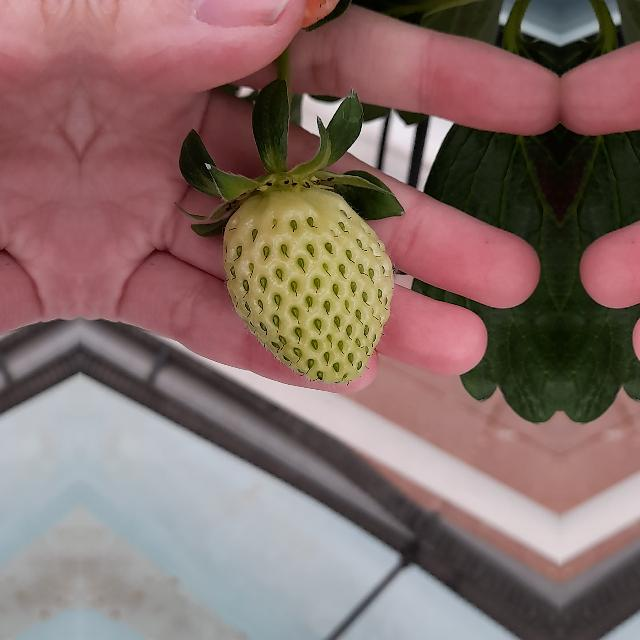Health_25: (222, 183, 394, 383)
